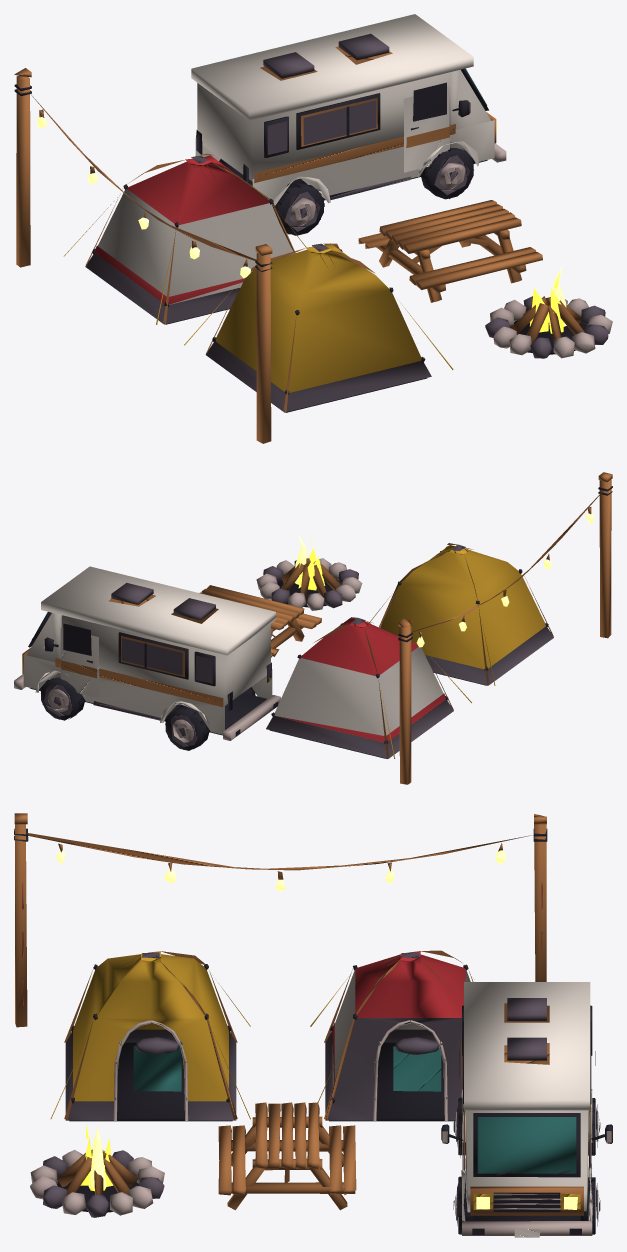
3 renders of one model, top to bottom at view 1: azimuth 30°, elevation 25°; view 2: azimuth 150°, elevation 25°; view 3: azimuth 270°, elevation 25°, orthographic. The views are drawn at different scales.
Bounding box in the file's own units: 8.51 × 3.49 × 9.
